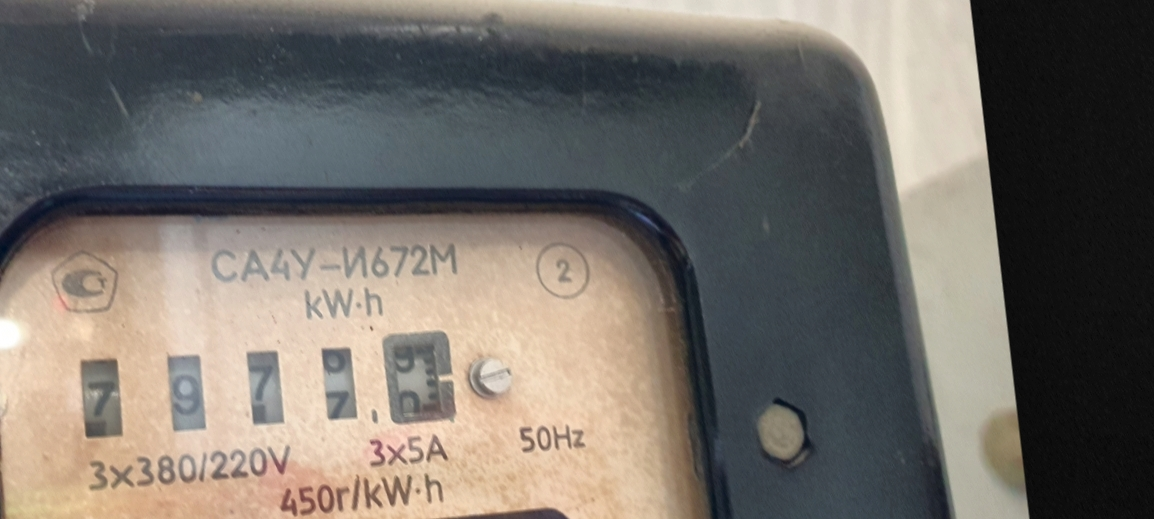0: (394, 386, 420, 417)
7: (80, 375, 119, 423), (320, 381, 355, 425), (245, 361, 278, 405)
9: (166, 370, 202, 420), (388, 342, 421, 377)
screen: (61, 305, 474, 477)
